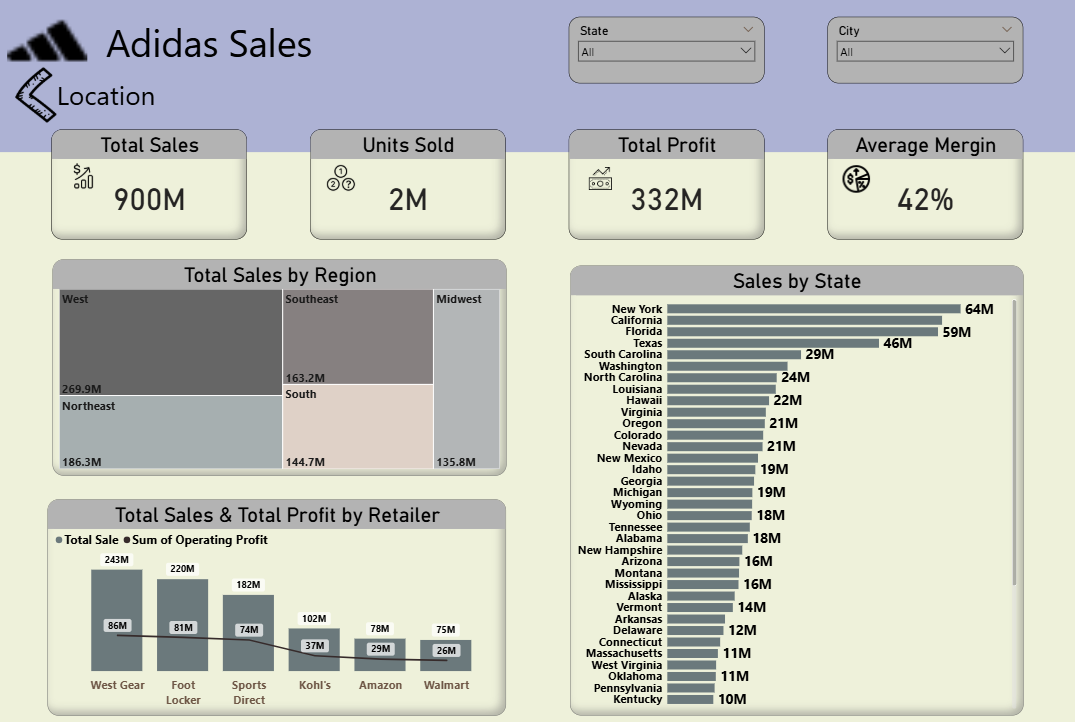

Layout of this report page (visuals, bound fields, positions):
{"tool":"powerbi","page":{"name":"Location","canvas":[1920,1300],"ordinal":1},"visuals":[{"type":"shape","box":[0,0,1920,274],"z":0},{"type":"image","box":[0,0,168,152],"z":1000},{"type":"shape","box":[106,0,530,156],"z":2000},{"type":"card","title":"Units Sold","fields":{"Values":["Sum(Sales.Units Sold)"]},"box":[552,234,348,196],"z":3000},{"type":"image","box":[92,288,114,58],"z":4000},{"type":"card","title":"Total Sales","fields":{"Values":["Sum(Sales.Total Sales)"]},"box":[92,234,348,196],"z":5000},{"type":"image","box":[552,288,110,62],"z":6000},{"type":"card","title":"Total Profit","fields":{"Values":["Sum(Sales.Operating Profit)"]},"box":[1012,234,348,196],"z":7000},{"type":"shape","box":[56,94,266,156],"z":8000},{"type":"image","box":[1012,288,112,64],"z":9000},{"type":"card","title":"Average Mergin","fields":{"Values":["Avg(Sales.Operating Margin)"]},"box":[1472,234,348,196],"z":10000},{"type":"image","box":[1472,288,102,66],"z":11000},{"type":"slicer","fields":{"Values":["Sales.State"]},"box":[1012,34,348,118],"z":12000},{"type":"slicer","fields":{"Values":["Sales.City"]},"box":[1472,34,348,118],"z":13000},{"type":"treemap","title":"Total Sales by Region","fields":{"Details":["Sales.Region"],"Values":["Sum(Sales.Total Sales)"]},"box":[92.5,465,807.5,385],"z":14000},{"type":"barChart","title":"Sales by State","fields":{"Category":["Sales.State"],"Y":["Sales.Total Sale"]},"box":[1014,476,806,800],"z":15000},{"type":"lineStackedColumnComboChart","title":"Total Sales & Total Profit by Retailer","fields":{"Y":["Sales.Total Sale"],"Category":["Sales.Retailer"],"Y2":["Sum(Sales.Operating Profit)"]},"box":[85,890,815,385],"z":16000},{"type":"image","box":[0,110,132,124],"z":17000}]}

Visuals, with their boxes in screenshot pixels (x1, y1, x2, y2), scaled from the page's 1920x1300 canvas onto the 1075x722 screenshot:
shape: l=0, t=0, r=1074, b=152
image: l=0, t=0, r=94, b=84
shape: l=59, t=0, r=356, b=87
"Units Sold" card: l=309, t=130, r=504, b=239
image: l=52, t=160, r=115, b=192
"Total Sales" card: l=52, t=130, r=246, b=239
image: l=309, t=160, r=371, b=194
"Total Profit" card: l=567, t=130, r=761, b=239
shape: l=31, t=52, r=180, b=139
image: l=567, t=160, r=629, b=195
"Average Mergin" card: l=824, t=130, r=1019, b=239
image: l=824, t=160, r=881, b=197
slicer - Sales.State: l=567, t=19, r=761, b=84
slicer - Sales.City: l=824, t=19, r=1019, b=84
"Total Sales by Region" treemap: l=52, t=258, r=504, b=472
"Sales by State" barChart: l=568, t=264, r=1019, b=709
"Total Sales & Total Profit by Retailer" lineStackedColumnComboChart: l=48, t=494, r=504, b=708
image: l=0, t=61, r=74, b=130
